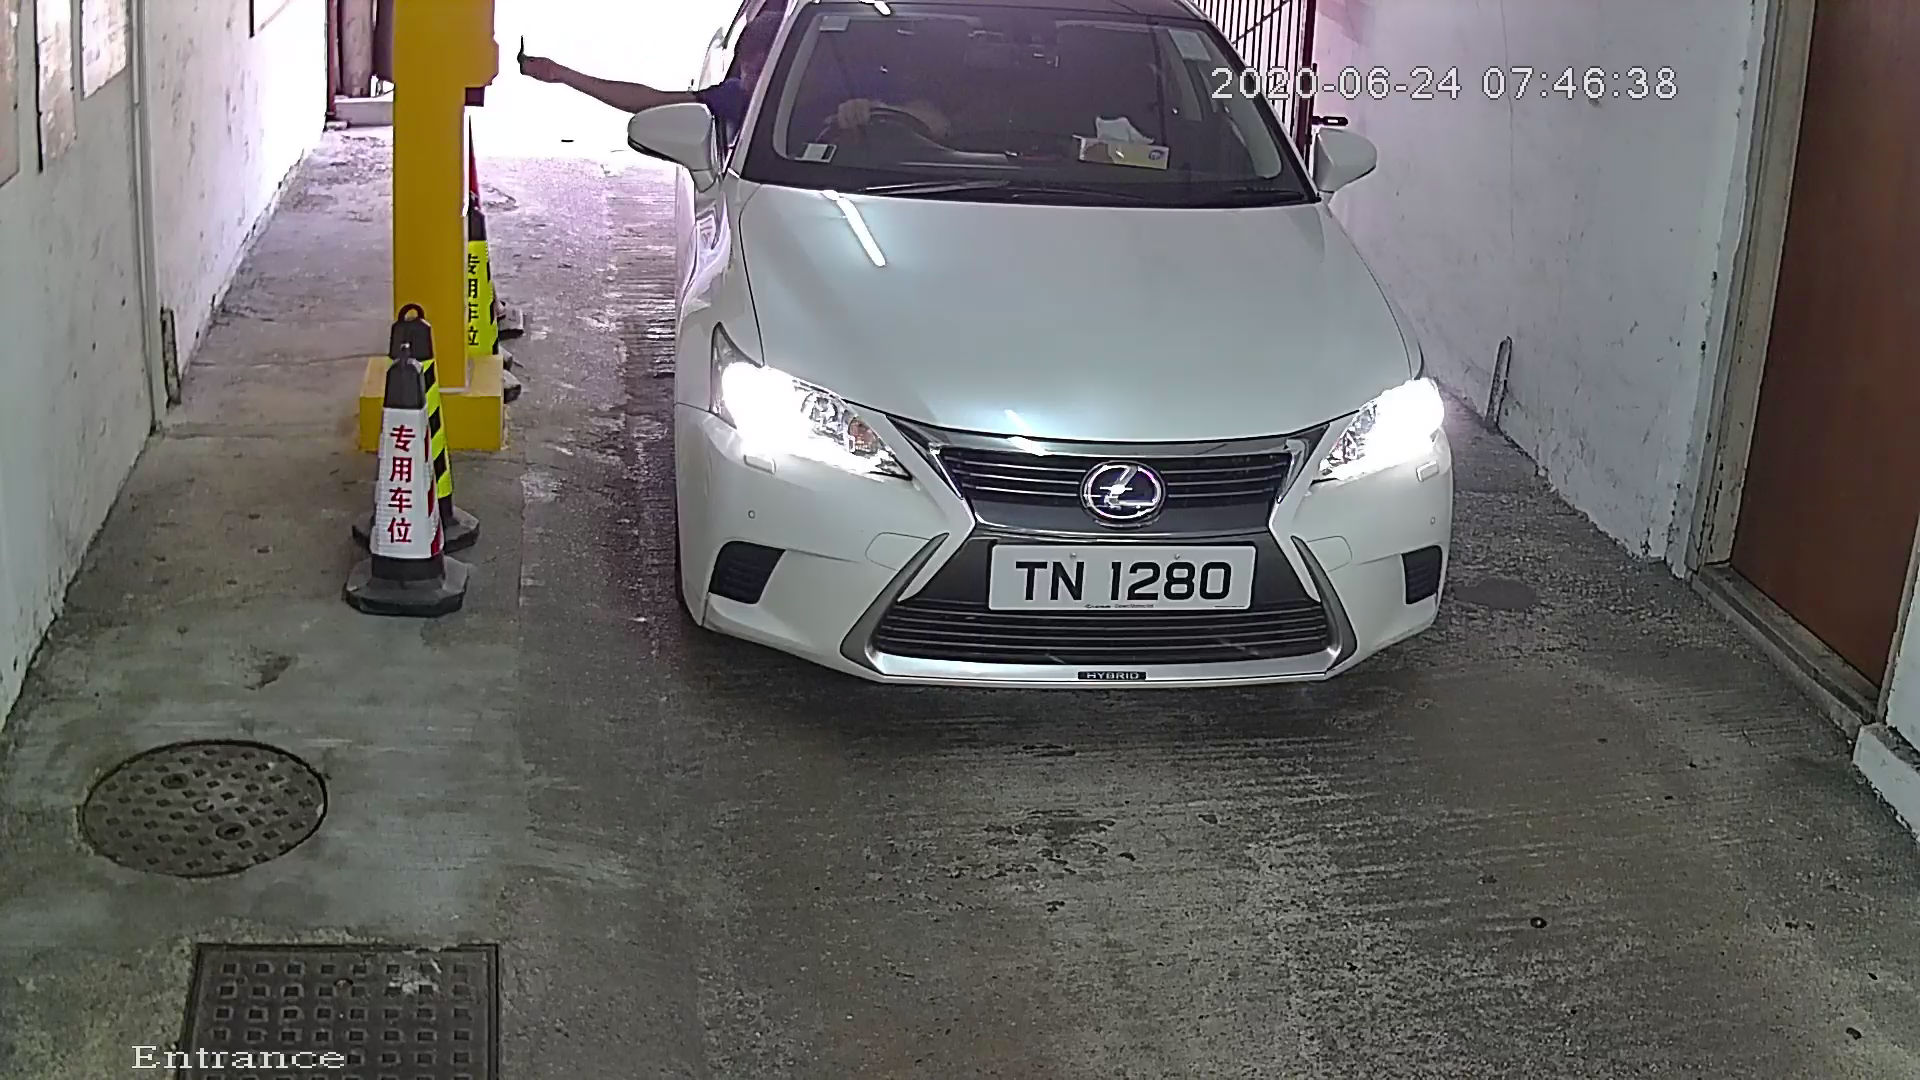privatecar: (607, 1, 1501, 756)
